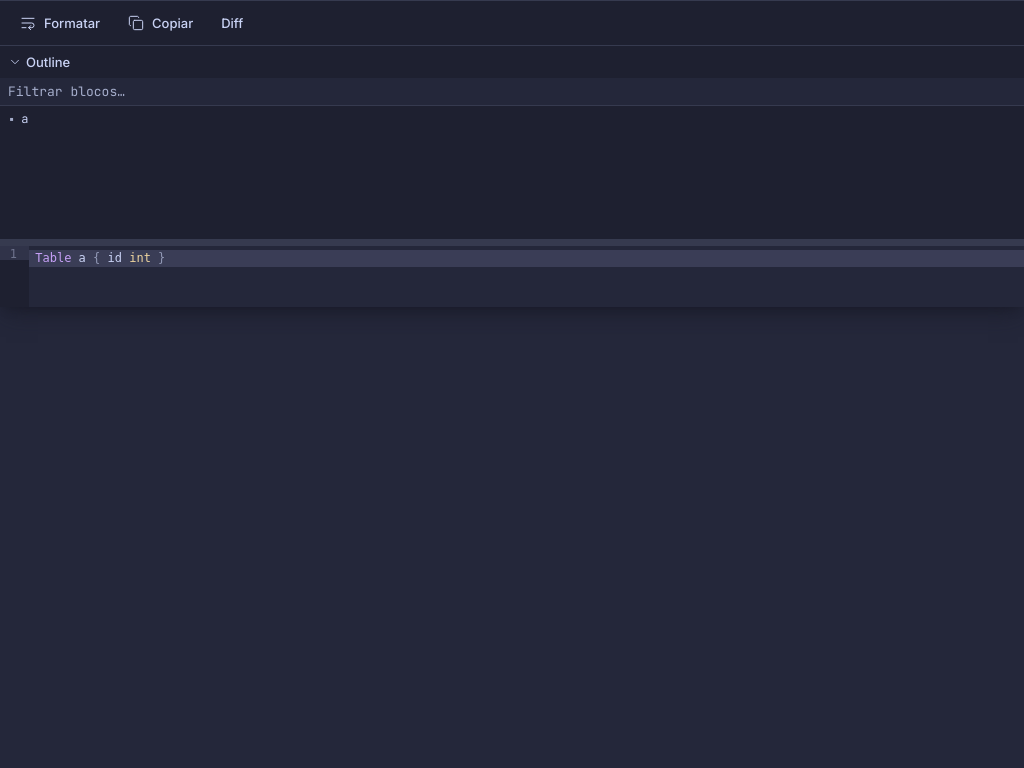
Test case: SourceDrawer › Diff toggles the saved-vs-working overlay
The width and height of the screenshot is (1024, 768).
Expected: the dialog "Diff DBML" is not shown
Click the button "Diff".
click(232, 23)  # box [209,5,255,41]
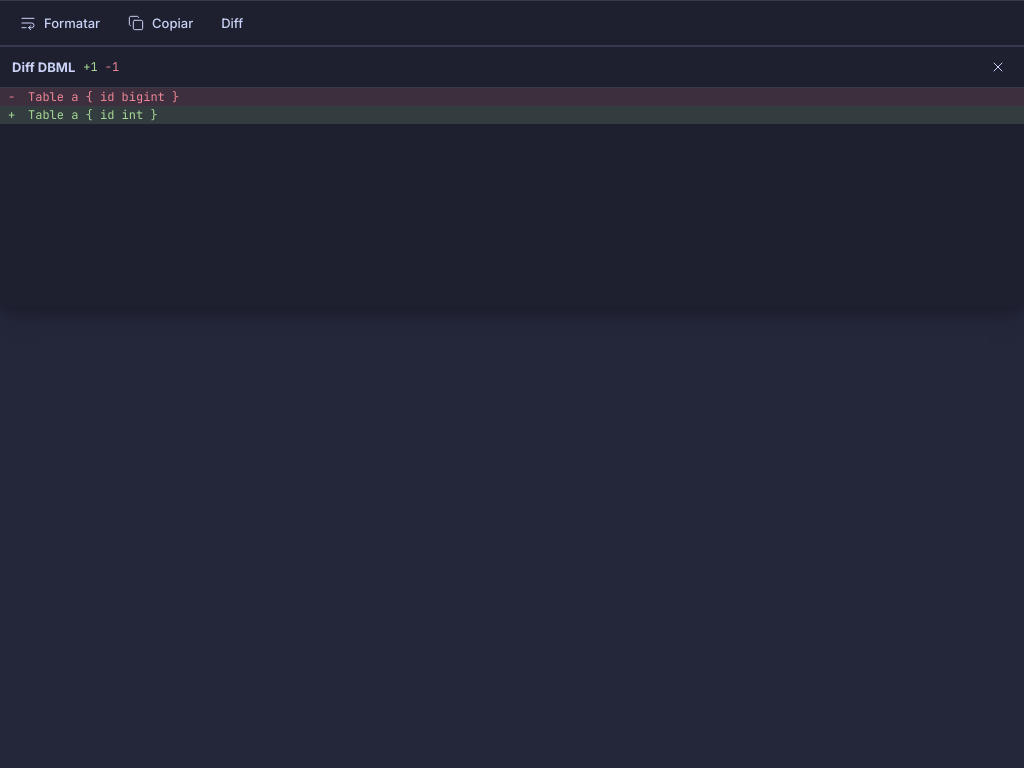
Expected: the dialog "Diff DBML" is shown, [0,46,1023,307]
Click the button named "Fechar".
click(998, 67)  # box [984,53,1012,81]
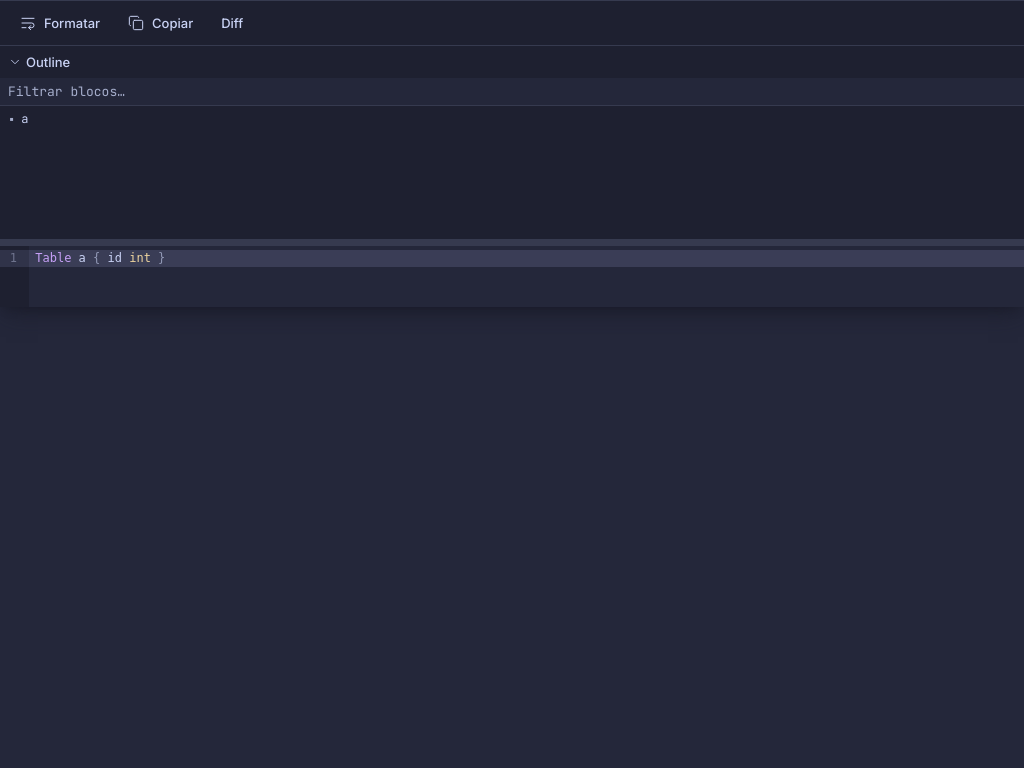
Expected: the text "Diff DBML" is gone
